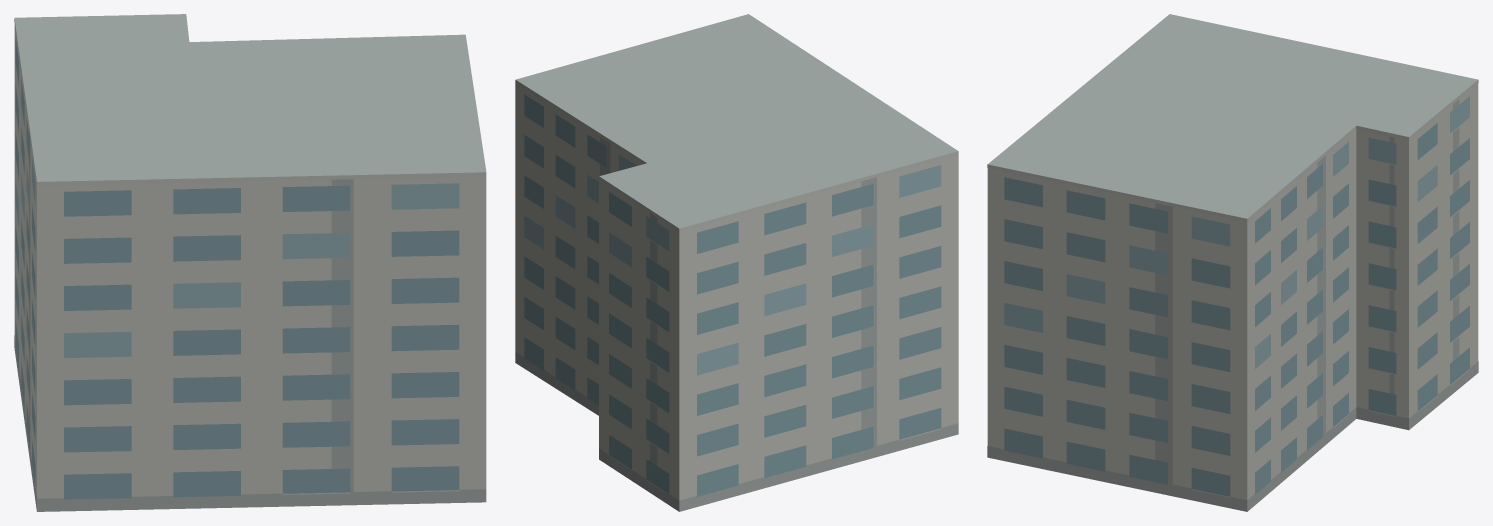
File: survey-upis-33014463.glb
3 views of the same model, side by side, from view 1: azimuth 30°, elevation 25°; view 2: azimuth 150°, elevation 25°; view 3: azimuth 270°, elevation 25° (orthographic). The views are drawn at different scales.
Parts seen in each view (by area): view 1: survey-upis-33014463.tmp; view 2: survey-upis-33014463.tmp; view 3: survey-upis-33014463.tmp.
Part boxes in pixels (x1=…): survey-upis-33014463.tmp: x1=14, y1=14, x2=486, y2=511; survey-upis-33014463.tmp: x1=515, y1=14, x2=958, y2=511; survey-upis-33014463.tmp: x1=987, y1=14, x2=1478, y2=511.
Bounding box in the file's own units: 30.12 × 20.1 × 30.52.
